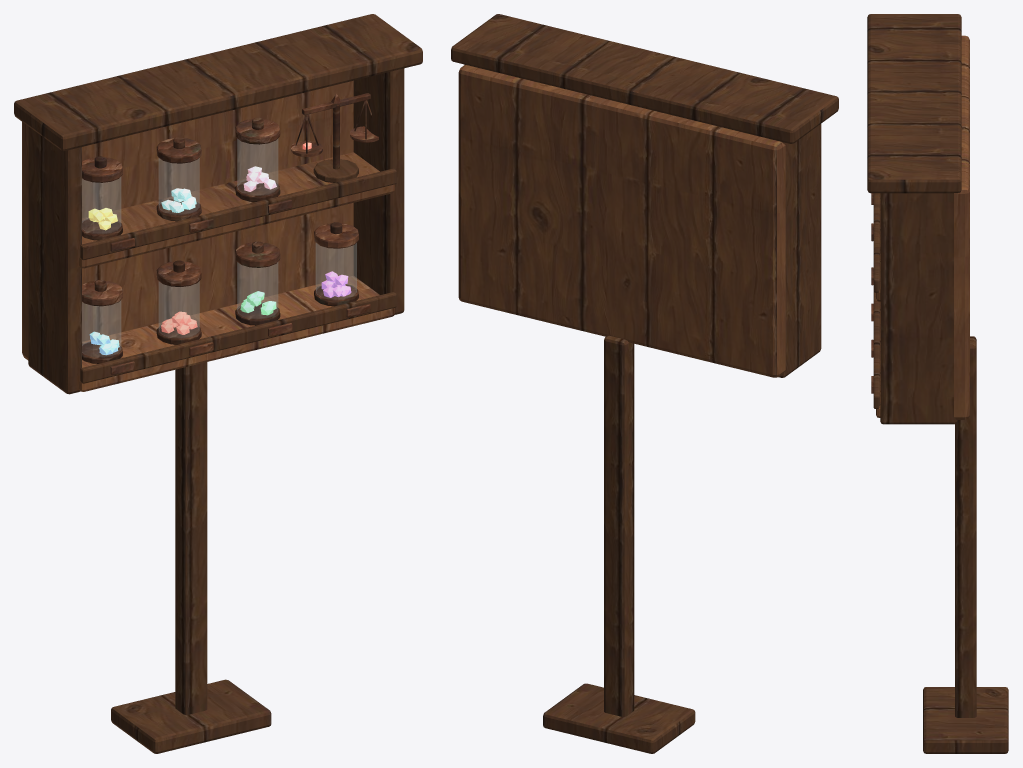
File: hm_gem_jar_shelf.glb
3 renders of one model, left to right at view 1: azimuth 30°, elevation 25°; view 2: azimuth 150°, elevation 25°; view 3: azimuth 270°, elevation 25°, orthographic. The views are drawn at different scales.
Visible parts, largest first — view 1: model; view 2: model; view 3: model.
Part boxes in pixels (box(x1,y1,x2,y2)): model: box(14, 14, 422, 753); model: box(451, 14, 838, 753); model: box(867, 14, 1008, 753).
Bounding box in the file's own units: 0.92 × 1.63 × 0.33.
19 materials, 5 textured.
